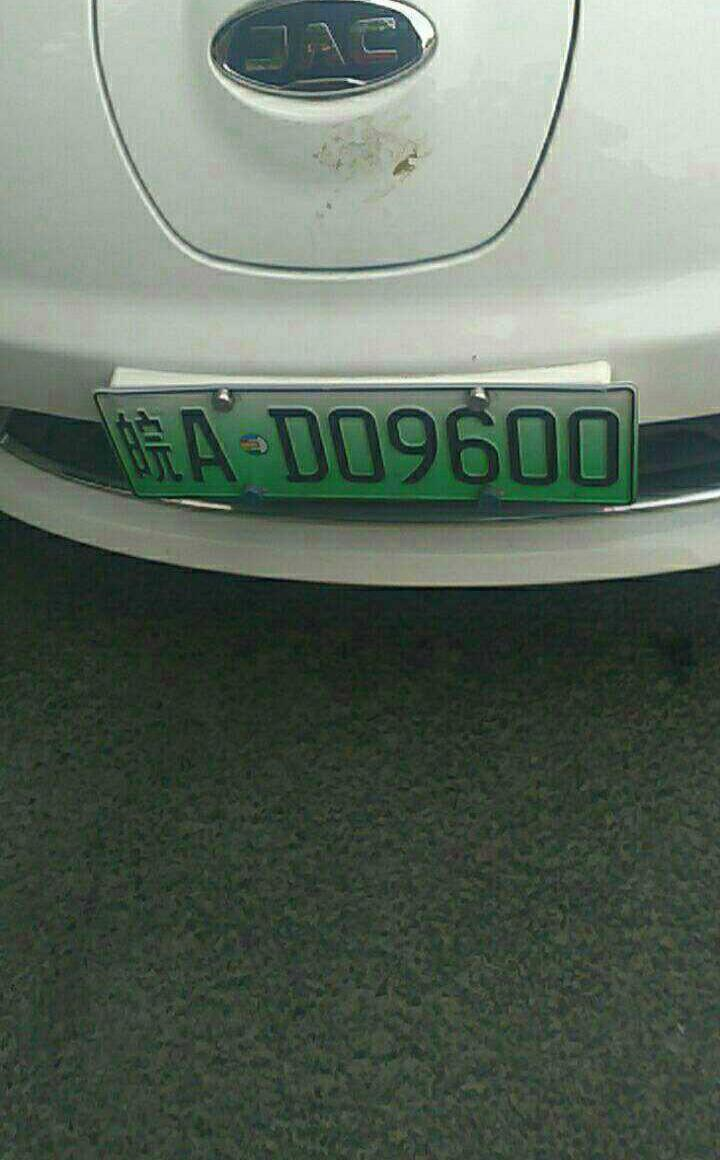car_id: (95, 387, 635, 504)
